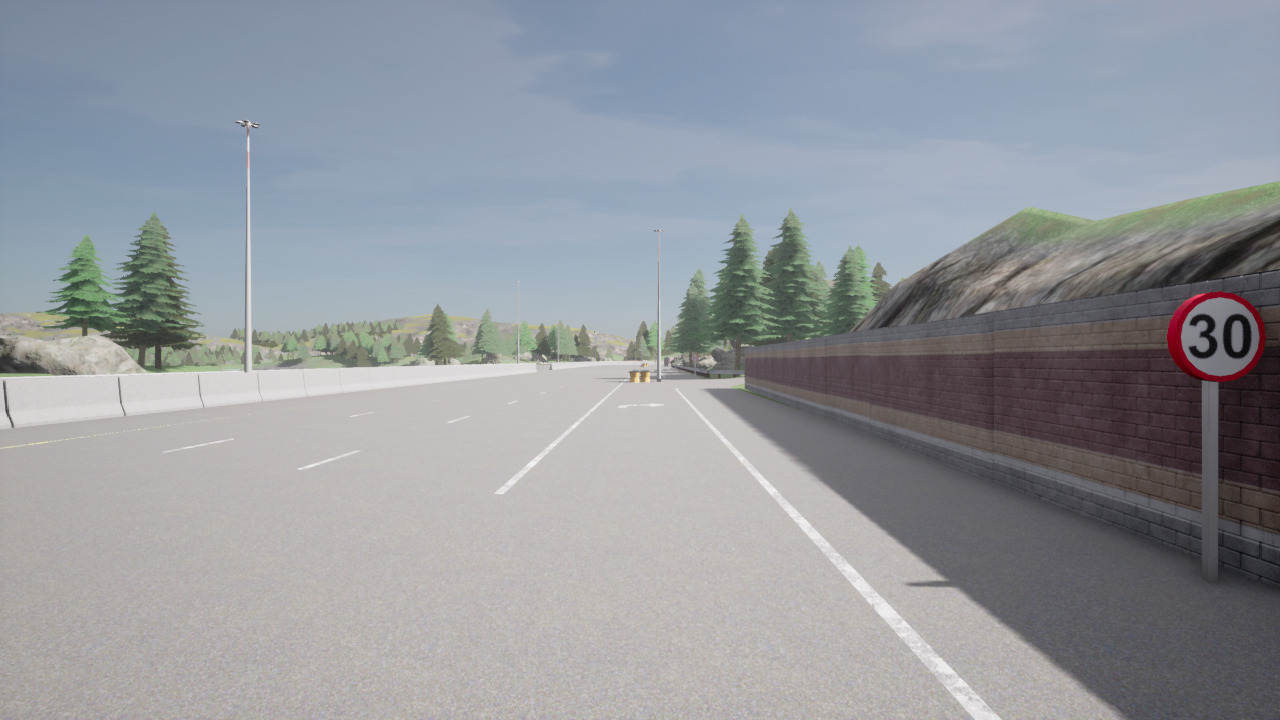sl30: (1166, 291, 1267, 383)
